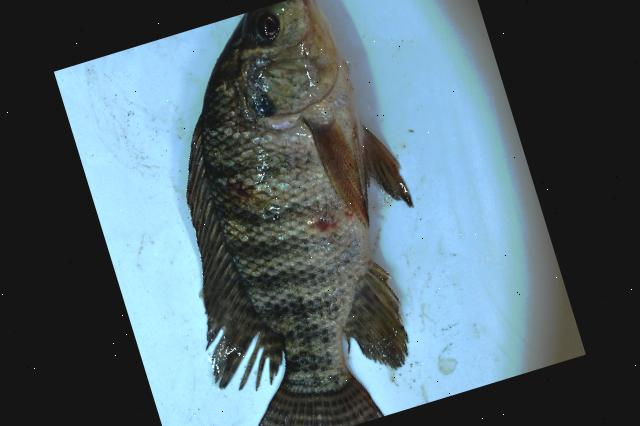Columnaris Disease: (187, 0, 412, 426)
